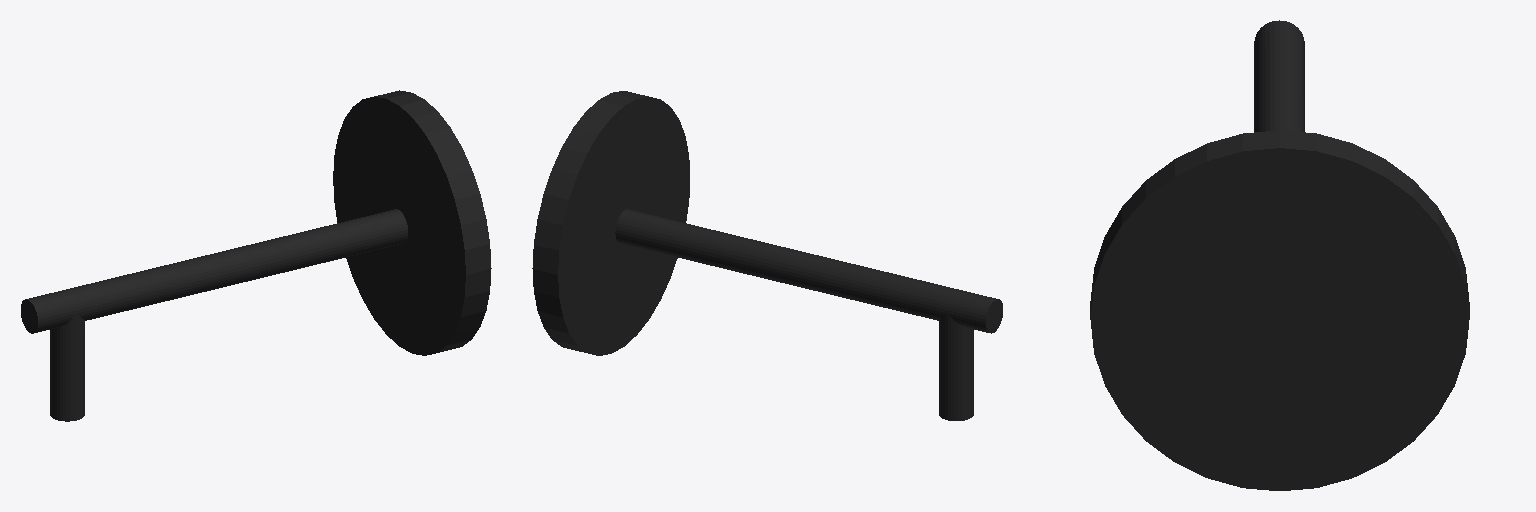
URDF robot description (inert_hand_right):
<?xml version="1.0" ?>
<!-- =================================================================================== -->
<!-- |    This document was autogenerated by xacro from inert_hand_right.urdf.xacro    | -->
<!-- |    EDITING THIS FILE BY HAND IS NOT RECOMMENDED                                 | -->
<!-- =================================================================================== -->
<robot name="inert_hand_right" xmlns:controller="http://playerstage.sourceforge.net/gazebo/xmlschema/#controller" xmlns:interface="http://playerstage.sourceforge.net/gazebo/xmlschema/#interface" xmlns:sensor="http://playerstage.sourceforge.net/gazebo/xmlschema/#sensor" xmlns:xacro="http://www.ros.org/wiki/xacro">
  <link name="plane::xy::base">
    <inertial>
      <mass value="0.1"/>
      <origin rpy="0 0 0" xyz="0 0 0.0"/>
      <inertia ixx="0.01" ixy="0" ixz="0" iyy="0.01" iyz="0" izz="0.01"/>
    </inertial>
  </link>
  <joint name="right_hook_hand_joint" type="fixed">
    <origin rpy="1.57 0.0 -1.57" xyz="0 0 0"/>
    <parent link="plane::xy::base"/>
    <child link="right_base_link"/>
  </joint>
  <link name="right_base_link">
    <inertial>
      <mass value="0.1"/>
      <origin xyz="0 0 0"/>
      <inertia ixx="0.001" ixy="0.0" ixz="0.0" iyy="0.001" iyz="0.0" izz="0.001"/>
    </inertial>
    <!-- MIT's own extension plate -->
    <collision>
      <geometry>
        <cylinder length="0.01" radius="0.045"/>
      </geometry>
      <origin rpy="0 0 0" xyz="0 0 0.025"/>
    </collision>
    <visual>
      <geometry>
        <cylinder length="0.01" radius="0.045"/>
      </geometry>
      <material name="darkgray">
        <color rgba="0.2 0.2 0.2 1"/>
      </material>
      <origin rpy="0 0 0" xyz="0 0 0.025"/>
    </visual>
    <!-- MIT's pointer rod -->
    <collision>
      <geometry>
        <cylinder length="0.15" radius="0.006"/>
      </geometry>
      <origin rpy="0 0 0" xyz="0 0 0.1"/>
    </collision>
    <visual>
      <geometry>
        <cylinder length="0.15" radius="0.006"/>
      </geometry>
      <material name="darkgray">
        <color rgba="0.2 0.2 0.2 1"/>
      </material>
      <origin rpy="0 0 0" xyz="0 0 0.1"/>
    </visual>
    <!-- MIT's hook -->
    <collision>
      <geometry>
        <cylinder length="0.04" radius="0.006"/>
      </geometry>
      <origin rpy="0 1.571 1.571" xyz="0.00 -0.02 0.16"/>
    </collision>
    <visual>
      <geometry>
        <cylinder length="0.04" radius="0.006"/>
      </geometry>
      <material name="darkgray">
        <color rgba="0.2 0.2 0.2 1"/>
      </material>
      <origin rpy="0 1.571 1.571" xyz="0.00 -0.02 0.16"/>
    </visual>
  </link>
  <!--  <xacro:include filename="$(find hook_description)/src/bdihook_hand.urdf.xacro" />-->
  <!--  <xacro:hook_hand side="right" parent="plane::xy::base" reflect="1" hookflip="1">-->
  <!--    <origin rpy="1.57 -1.57 -1.57" xyz="0 0 0"/>   -->
  <!--  </xacro:hook_hand>  -->
</robot>

--- Facts derived from the render (not from the file) ---
3 views of the same robot in one strip: view 1: azimuth 30°, elevation 25°; view 2: azimuth 150°, elevation 25°; view 3: azimuth 270°, elevation 25° (orthographic).
Robot: inert_hand_right — 2 links, 1 joints (1 fixed); root link plane::xy::base; default pose: all joints at 0.
Links seen in each view (by area): view 1: right_base_link; view 2: right_base_link; view 3: right_base_link.
Boxes of the visible links, <box> form: right_base_link: <box>21,90,491,421</box>; right_base_link: <box>532,91,1002,420</box>; right_base_link: <box>1090,20,1469,490</box>.
Size in the robot's own frame: 0.1551 by 0.09 by 0.09 metres.
Geometry: primitives only (box / cylinder / sphere), no mesh files.